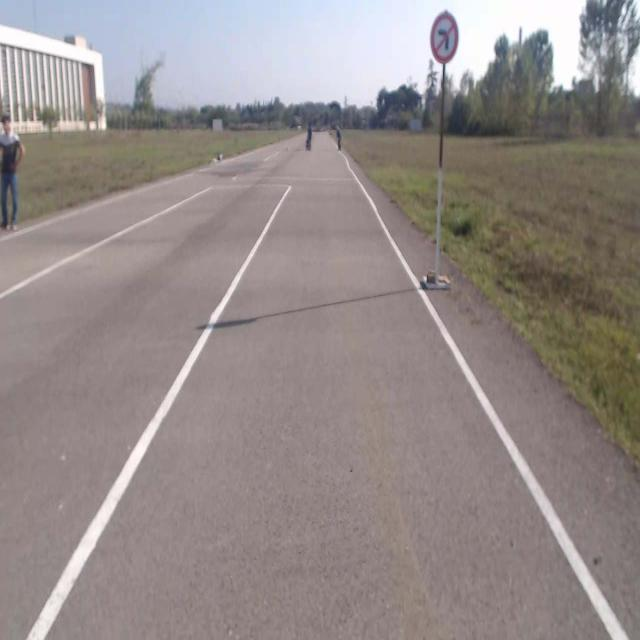soladonulmez: (431, 13, 459, 63)
